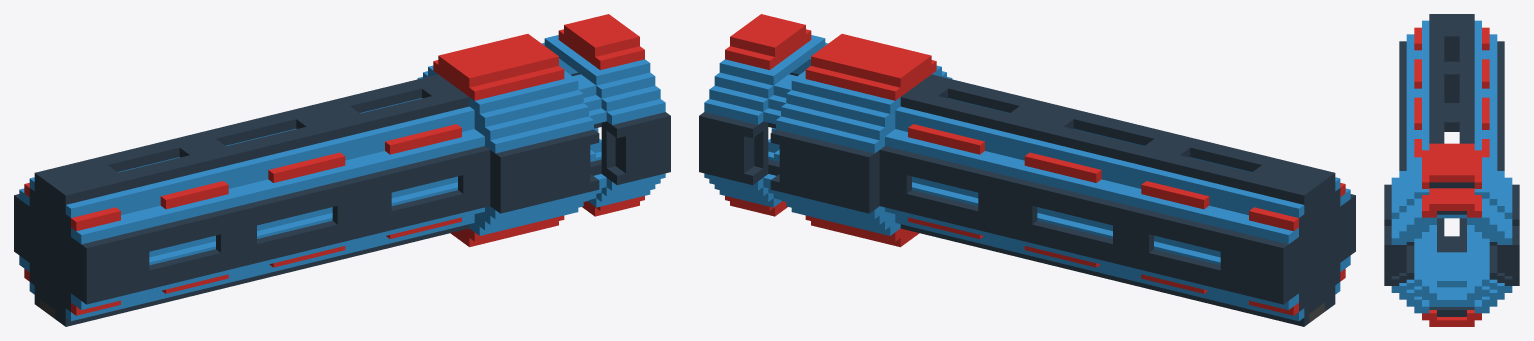
Rendered from gun.obj.
3 renders of one model, left to right at view 1: azimuth 30°, elevation 25°; view 2: azimuth 150°, elevation 25°; view 3: azimuth 270°, elevation 25°, orthographic. The views are drawn at different scales.
Size of the model in its own units: 64 by 18 by 18.
1 material, 1 textured.
